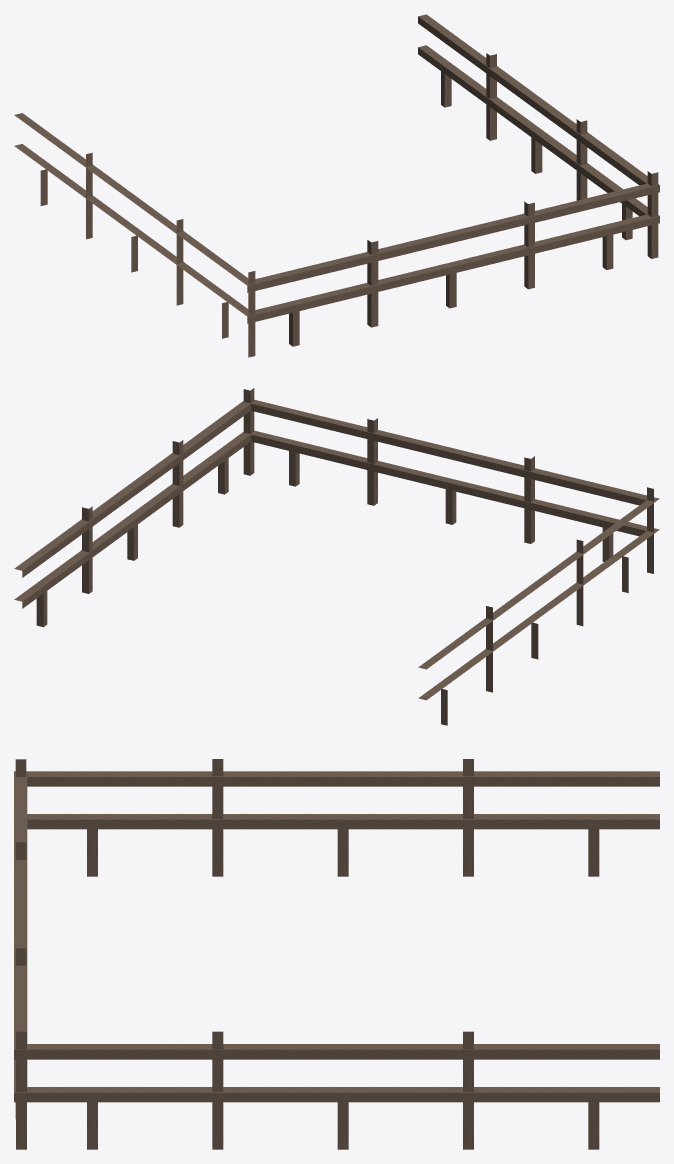
File: kd_stage_135ded_0_17.glb
The picture shows the model from 3 angles, top to bottom: view 1: azimuth 30°, elevation 25°; view 2: azimuth 150°, elevation 25°; view 3: azimuth 270°, elevation 25°; orthographic projection. The views are drawn at different scales.
Visible parts, largest first — view 1: kd_stage_135ded_0_17; view 2: kd_stage_135ded_0_17; view 3: kd_stage_135ded_0_17.
Boxes of the visible parts, box(x1,y1,x2,y2) form: kd_stage_135ded_0_17: box(14, 14, 659, 357); kd_stage_135ded_0_17: box(14, 388, 659, 725); kd_stage_135ded_0_17: box(14, 759, 659, 1149).
Size of the model in its own units: 18.18 by 3.59 by 17.81.
1 material, 1 textured.
